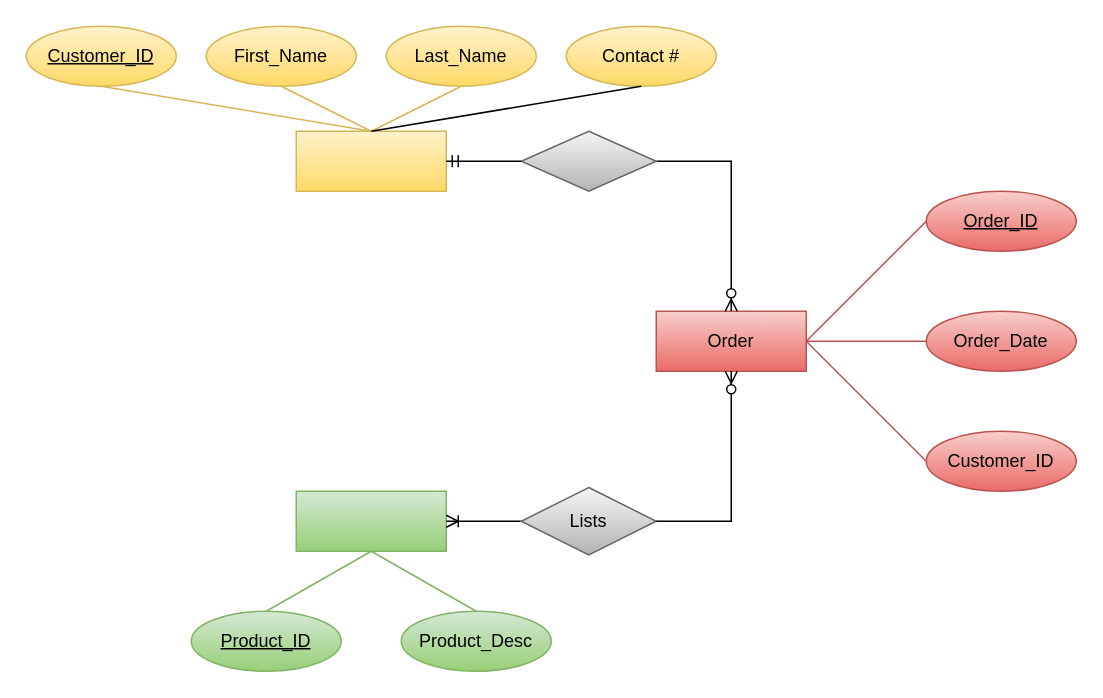
Image size: 1103x698. Some labels were removed from this diagram. Here are the shapes that lost their labels. From the top down, the centre of each, then its label:
(x=370, y=160): Customer
(x=588, y=160): Submits
(x=370, y=520): Product
